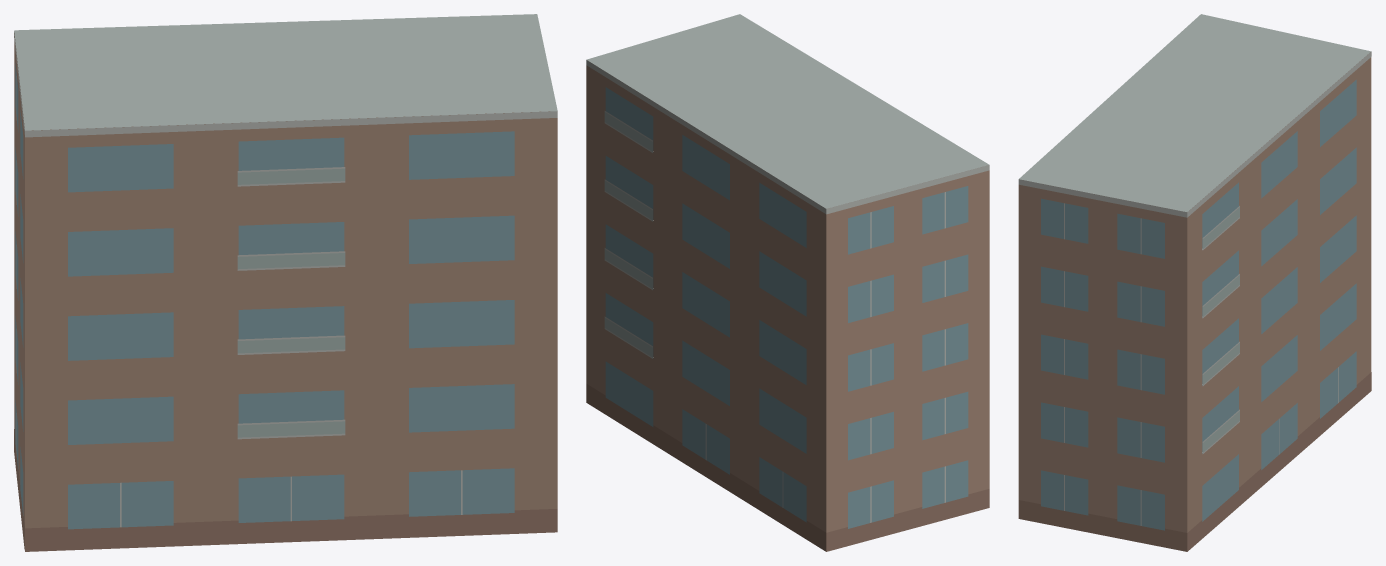
The model's file is survey-upis-32930401.glb.
3 views of the same model, side by side, from view 1: azimuth 30°, elevation 25°; view 2: azimuth 150°, elevation 25°; view 3: azimuth 270°, elevation 25° (orthographic). The views are drawn at different scales.
Parts seen in each view (by area): view 1: survey-upis-32930401.tmp; view 2: survey-upis-32930401.tmp; view 3: survey-upis-32930401.tmp.
Boxes of the visible parts, left/top/right/bottom form: survey-upis-32930401.tmp: left=14, top=14, right=557, bottom=551; survey-upis-32930401.tmp: left=586, top=14, right=989, bottom=551; survey-upis-32930401.tmp: left=1018, top=14, right=1371, bottom=551.
Size of the model in its own units: 19.1 by 15.25 by 14.37.
